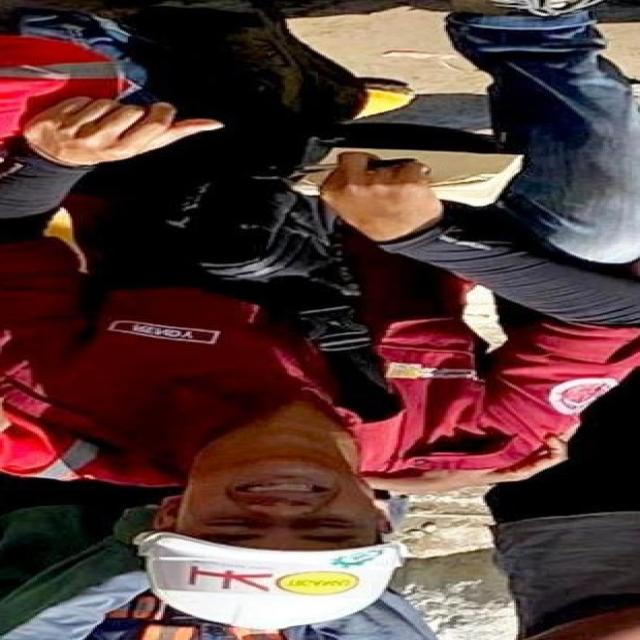safetyhelmet: (126, 487, 421, 640)
